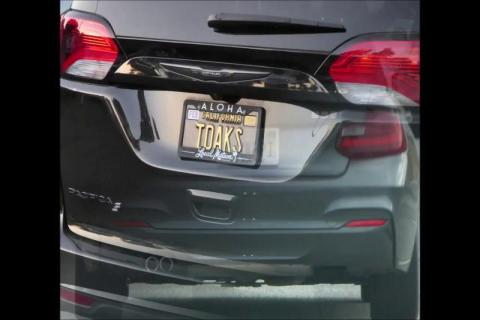LicensePlate: (183, 96, 259, 164)
